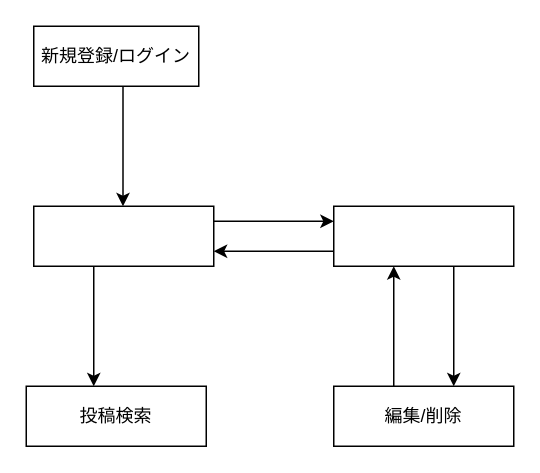
The diagram is 540 pixels wide and 473 high, and some of its shapes have lost their labels. Each missing label, with the centre of its shape:
トップページ: the point at 123,235
メモ一覧/投稿: the point at 423,235
